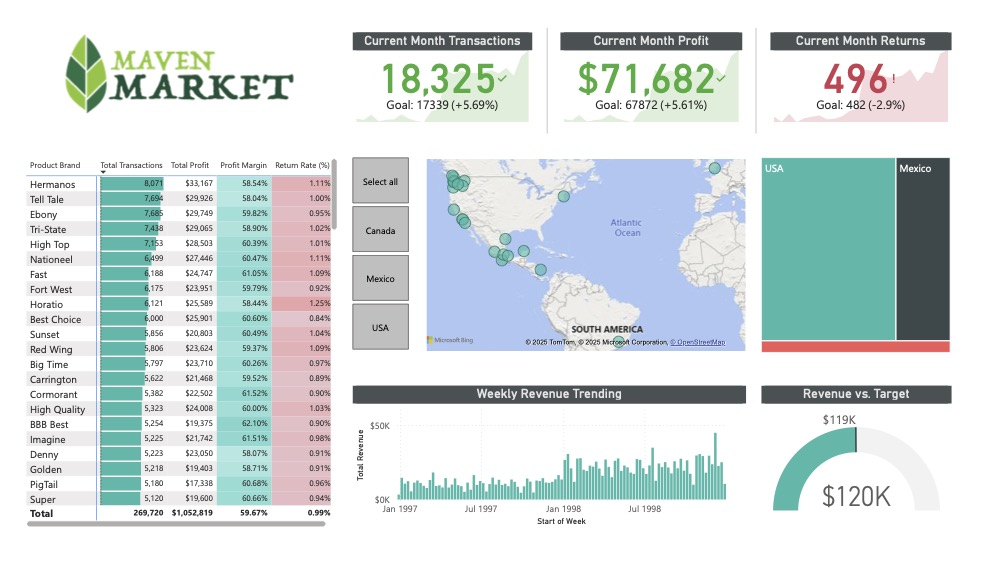

Layout of this report page (visuals, bound fields, positions):
{"tool":"powerbi","page":{"name":"Page 1","canvas":[1280,720],"ordinal":0},"visuals":[{"type":"image","box":[40,7.5,346.6,132.7],"z":0},{"type":"kpi","title":"Current Month Transactions","fields":{"Indicator":["Measures Table.Total Transactions"],"TrendLine":["Calendar.Start of Month"],"Goal":["Measures Table.Last Month Transactions"]},"box":[445.9,19,240.2,124.7],"z":2},{"type":"kpi","title":"Current Month Profit","fields":{"TrendLine":["Calendar.Start of Month"],"Indicator":["Measures Table.Total Profit"],"Goal":["Measures Table.Last Month Profit"]},"box":[723.3,19,242.5,124.7],"z":3},{"type":"kpi","title":"Current Month Returns","fields":{"TrendLine":["Calendar.Start of Month"],"Goal":["Measures Table.Last Month Returns"],"Indicator":["Measures Table.Total Returns"]},"box":[1003,19,242.5,124.7],"z":4},{"type":"map","fields":{"Category":["Stores.store_city"]},"box":[532.8,182.5,442.7,266.5],"z":5},{"type":"slicer","fields":{"Values":["Stores.store_country"]},"box":[420.5,178.9,124.7,270],"z":6},{"type":"columnChart","title":"Weekly Revenue Trending","fields":{"Category":["Calendar.Start of Week"],"Y":["Measures Table.Total Revenue"]},"box":[445.9,490,525.3,192.2],"z":7},{"type":"gauge","title":"Revenue vs. Target","fields":{"Y":["Measures Table.Total Revenue"],"TargetValue":["Measures Table.Revenue Target"]},"box":[991.1,490,254.4,171.6],"z":8},{"type":"basicShape","box":[671.7,2.9,67.5,161.3],"z":9},{"type":"basicShape","box":[950.3,2.9,67.5,161.3],"z":10},{"type":"treemap","fields":{"Group":["Stores.store_country","Stores.store_state","Stores.store_city"],"Values":["Measures Table.Total Transactions"]},"box":[985.8,181.4,261.9,270],"z":11},{"type":"pivotTable","fields":{"Rows":["Products.product_brand"],"Values":["Measures Table.Total Transactions","Measures Table.Total Profit","Measures Table.Profit Margin","Measures Table.Return Rate (%)"]},"box":[6.1,181.6,424.5,502.7],"z":12}]}

Visuals, with their boxes in screenshot pixels (x1, y1, x2, y2), scaled from the page's 1280x720 canvas onto the 996x576 screenshot:
image: (31, 6, 301, 112)
"Current Month Transactions" kpi: (347, 15, 534, 115)
"Current Month Profit" kpi: (563, 15, 752, 115)
"Current Month Returns" kpi: (780, 15, 969, 115)
map - Stores.store_city: (415, 146, 759, 359)
slicer - Stores.store_country: (327, 143, 424, 359)
"Weekly Revenue Trending" columnChart: (347, 392, 756, 546)
"Revenue vs. Target" gauge: (771, 392, 969, 529)
basicShape: (523, 2, 575, 131)
basicShape: (739, 2, 792, 131)
treemap - Stores.store_country x Stores.store_state: (767, 145, 971, 361)
pivotTable - Products.product_brand x Measures Table.Total Transactions: (5, 145, 335, 547)
